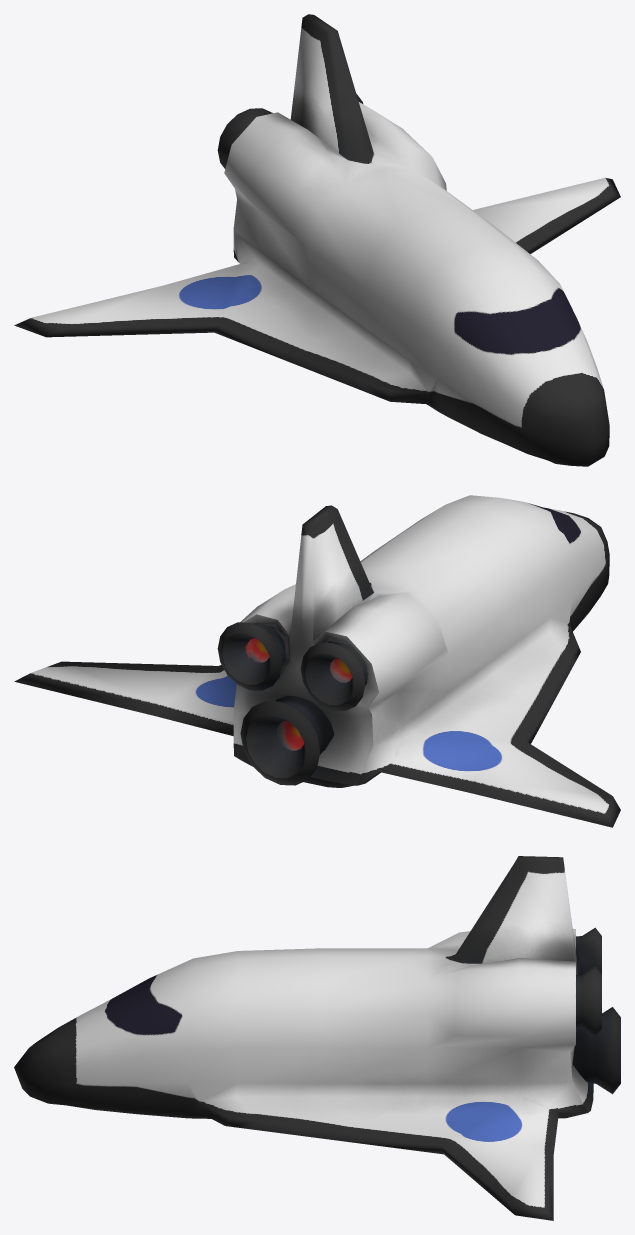
Rendered from navee1.fbx.
3 renders of one model, top to bottom at view 1: azimuth 30°, elevation 25°; view 2: azimuth 150°, elevation 25°; view 3: azimuth 270°, elevation 25°, orthographic. The views are drawn at different scales.
Visible parts, largest first — view 1: nave; view 2: nave; view 3: nave.
Part boxes in pixels (x1,y1,x2,y2): nave: (14,14,620,466); nave: (14,495,620,827); nave: (14,856,620,1220).
Size of the model in its own units: 839 by 350 by 772.
Materials: 1 (1 with a texture image).
